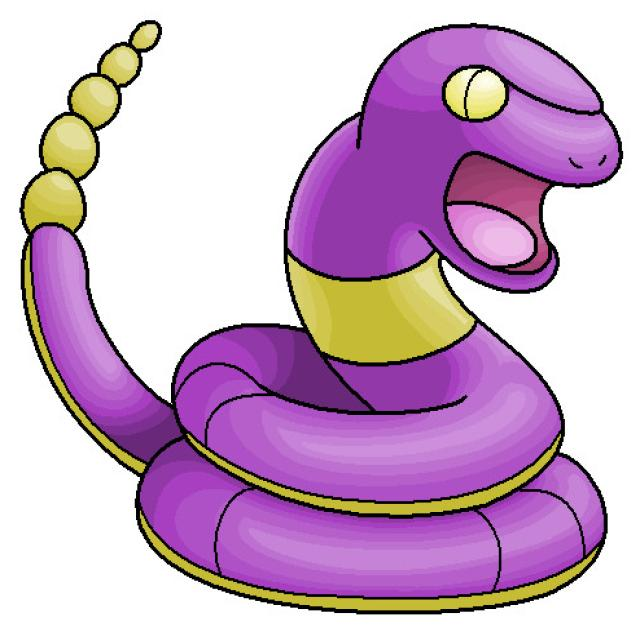Ekans: (131, 22, 622, 619)
